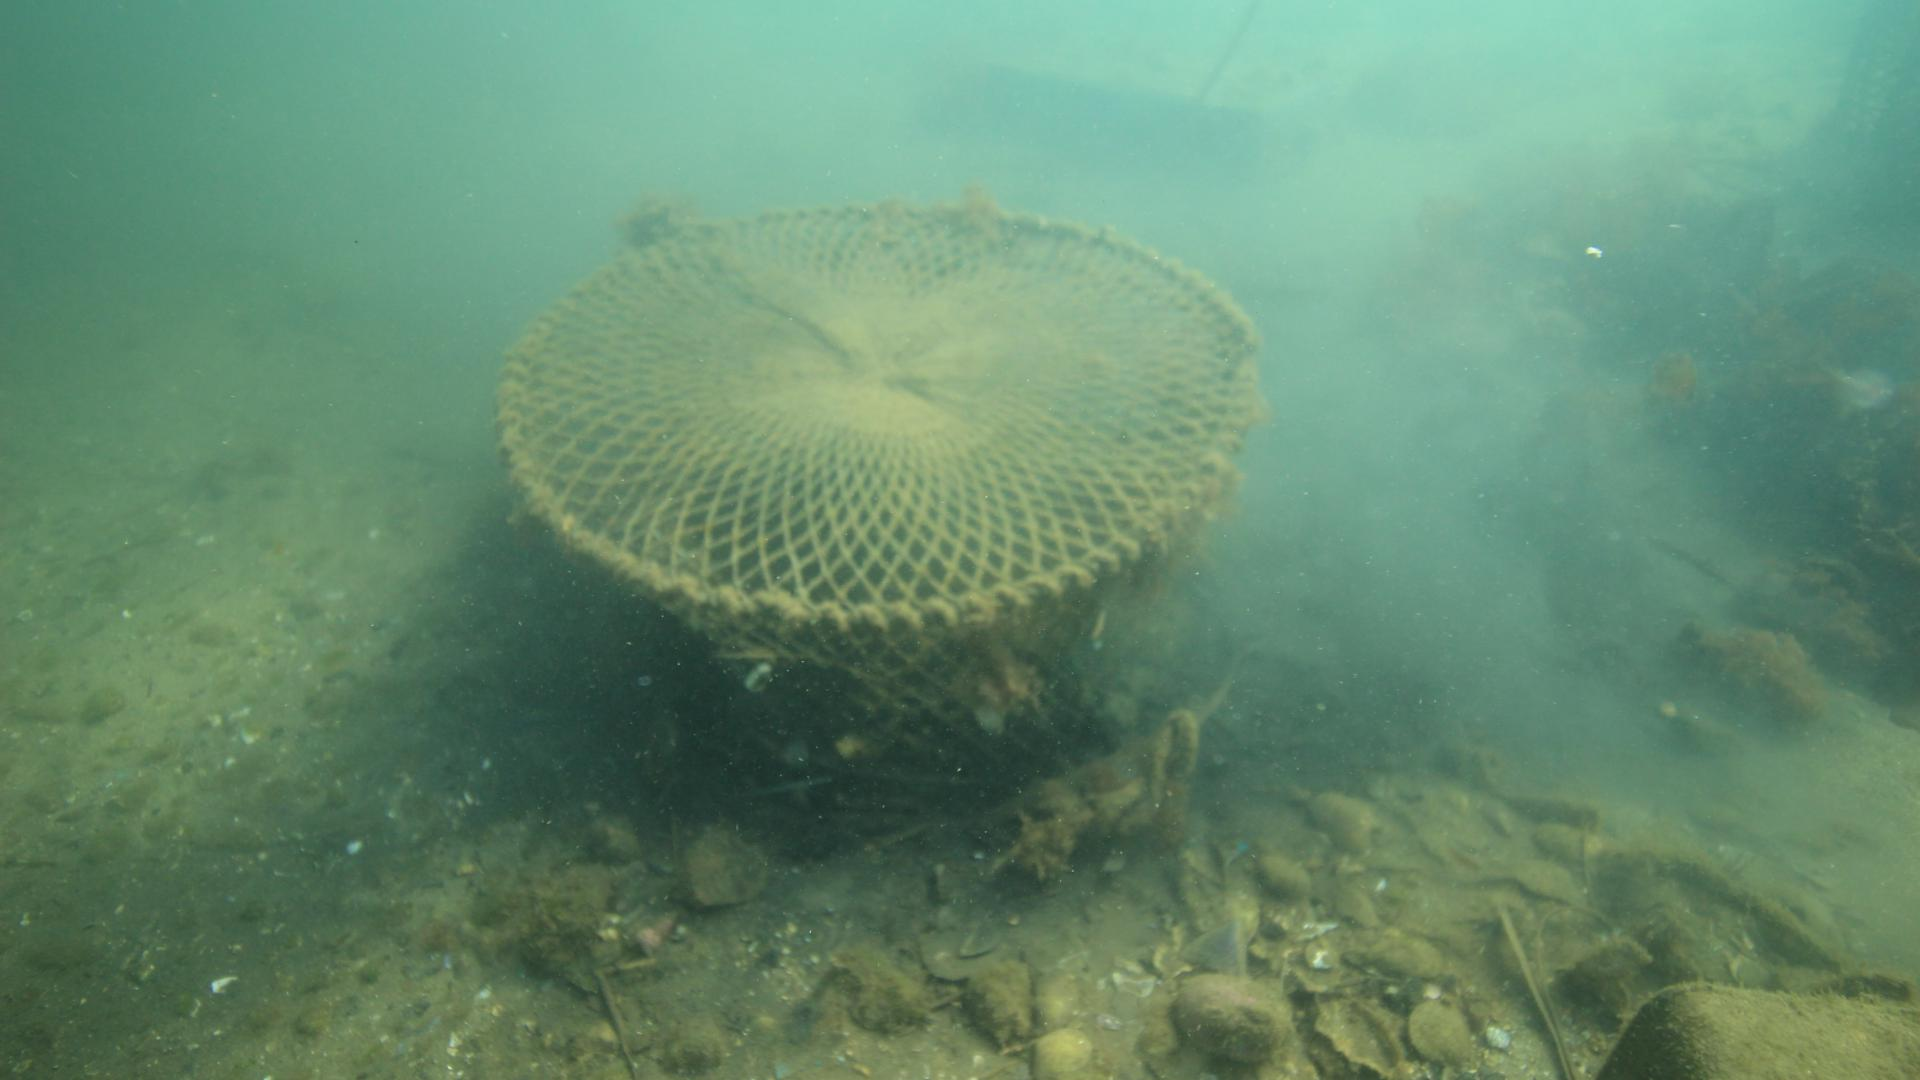circular fish trap: (493, 196, 1262, 770)
